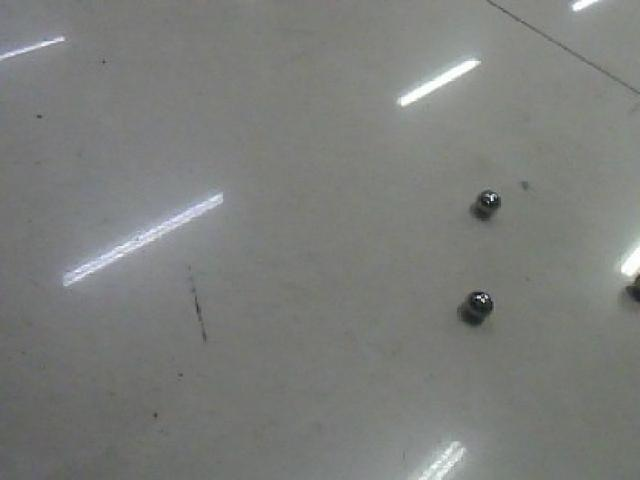steel-ball: (452, 277, 498, 326), (460, 175, 505, 220)
